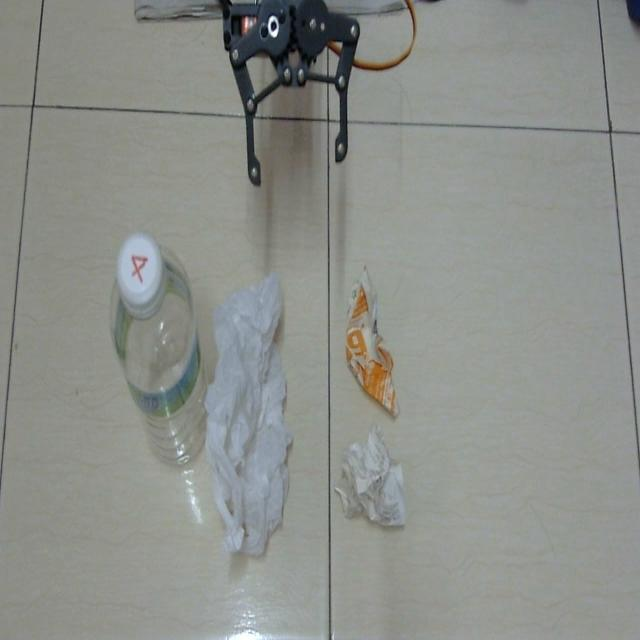Paperrotation: (326, 262, 408, 426), (330, 419, 410, 541)
Plastic-laydown_0-rotation: (198, 272, 303, 562)
Plastic-stand-rotation: (103, 233, 211, 478)
